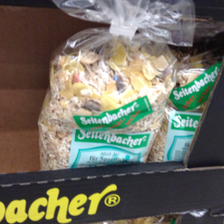cereal: (39, 28, 175, 167)
